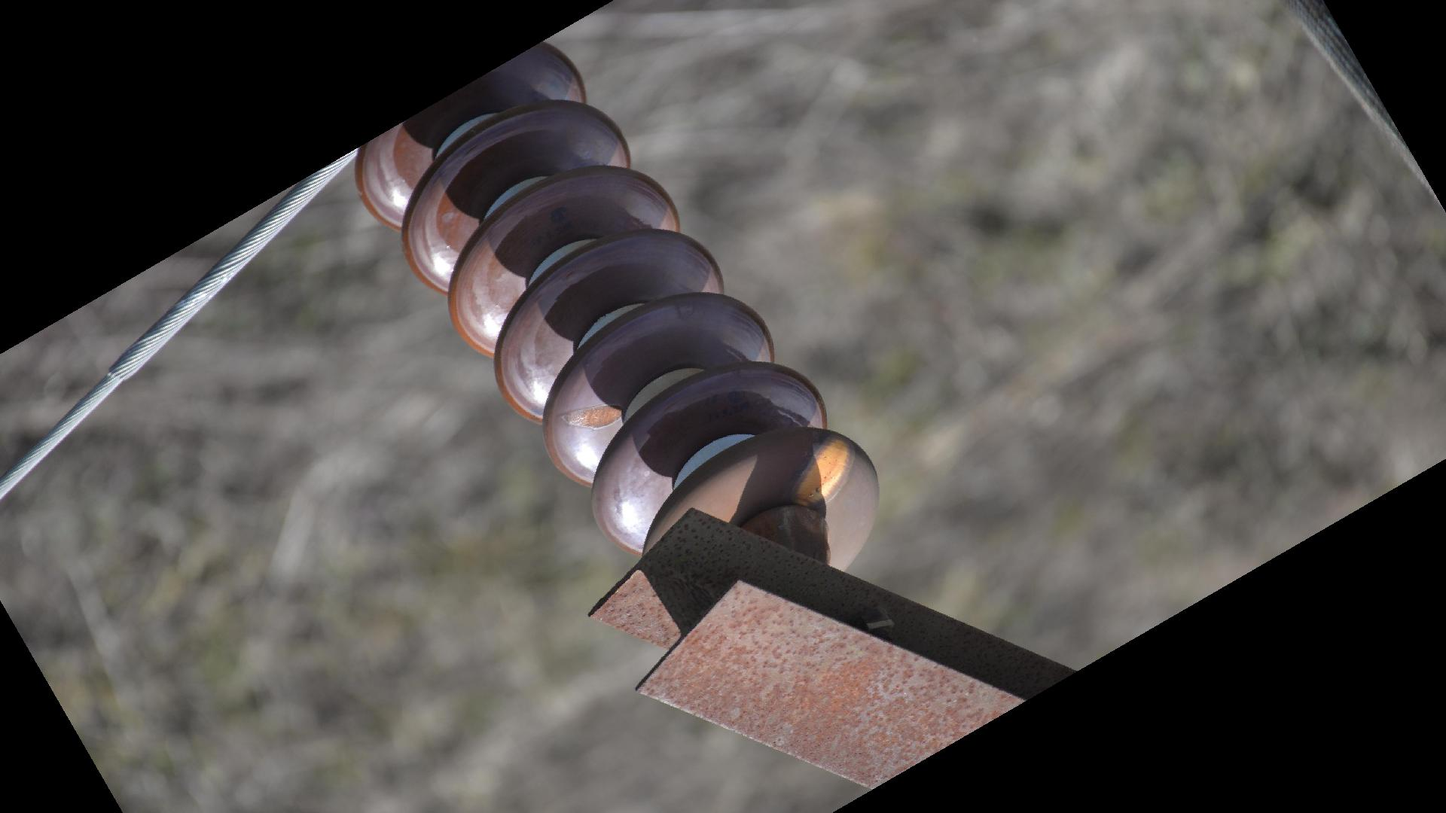insulator: (349, 37, 888, 579)
insulator_flashover: (787, 433, 857, 507), (557, 400, 627, 433)
